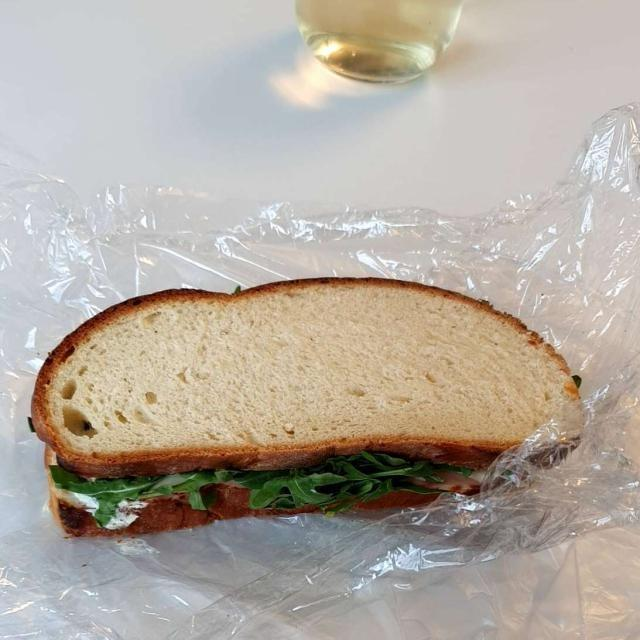bread: (43, 282, 583, 527)
